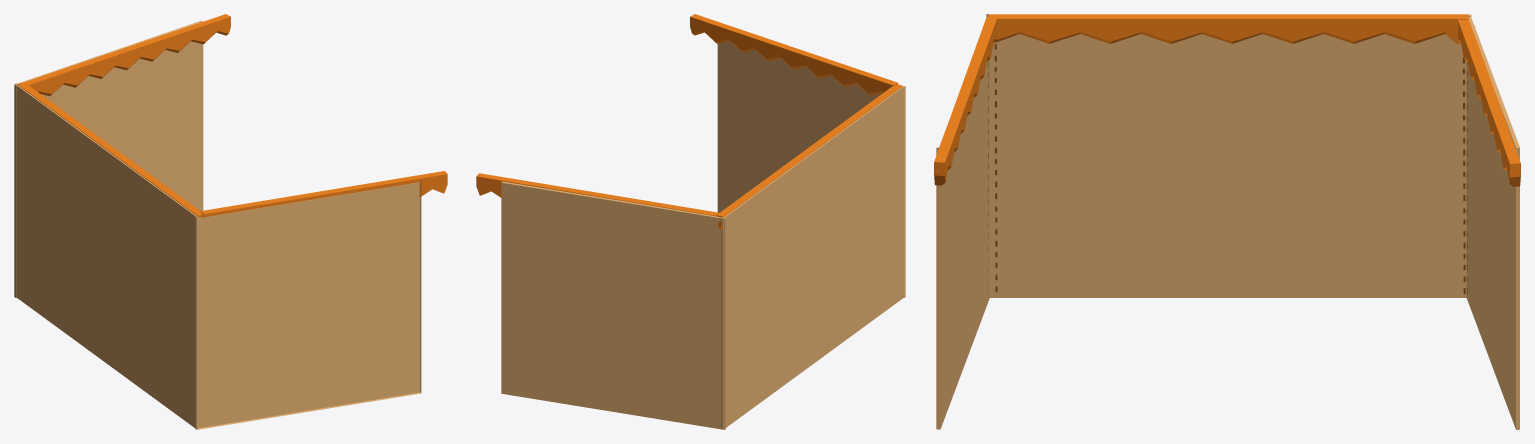
The model's file is B Wall.fbx.
3 views of the same model, side by side, from view 1: azimuth 30°, elevation 25°; view 2: azimuth 150°, elevation 25°; view 3: azimuth 270°, elevation 25° (orthographic). The views are drawn at different scales.
Visible parts, largest first — view 1: B Wall, B Garland; view 2: B Wall, B Garland; view 3: B Wall, B Garland.
Boxes of the visible parts, x1,y1,x2,y2 form: B Wall: [14, 20, 421, 429]; B Garland: [17, 14, 447, 217]; B Wall: [501, 41, 905, 429]; B Garland: [476, 14, 902, 229]; B Wall: [936, 14, 1519, 429]; B Garland: [934, 14, 1520, 186].
Bounding box in the file's own units: 260 × 228 × 427.
